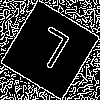L: (25, 25, 73, 79)
